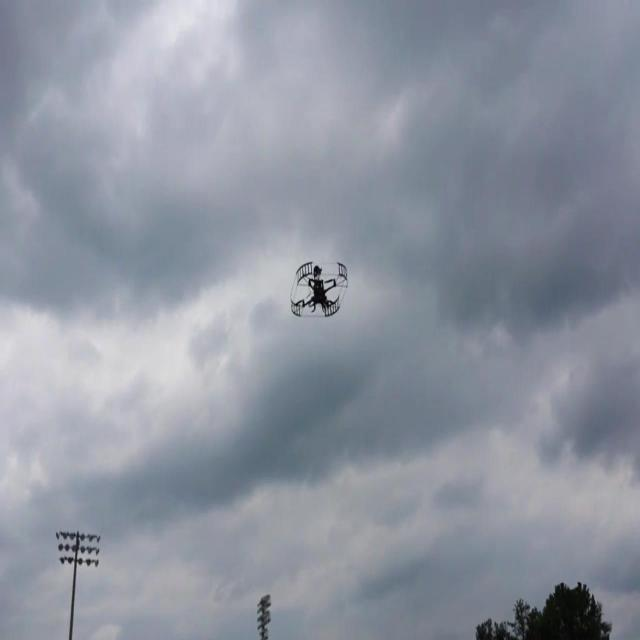UAV: (290, 262, 348, 318)
